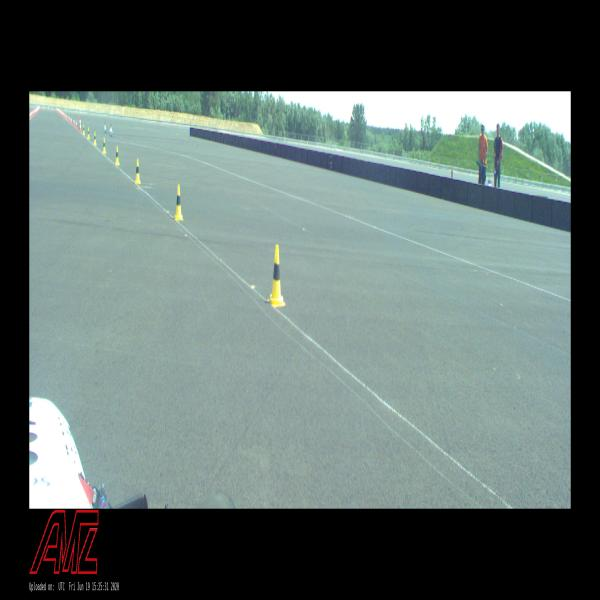large_orange_cone: (79, 117, 81, 131)
orange_cone: (76, 120, 78, 128), (73, 119, 75, 126), (67, 114, 69, 120), (71, 117, 72, 124), (69, 116, 70, 122)
yellow_cone: (268, 245, 286, 307), (175, 184, 183, 221), (134, 159, 140, 184), (115, 146, 119, 165), (102, 138, 106, 154), (87, 128, 90, 139), (82, 125, 85, 135), (94, 132, 96, 145)
